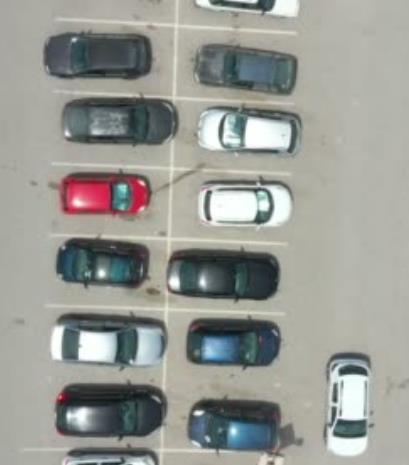car: (49, 314, 170, 371), (163, 248, 280, 303), (53, 385, 166, 440), (42, 28, 154, 82), (61, 97, 179, 148), (192, 41, 298, 96), (196, 105, 303, 159), (322, 355, 374, 458), (198, 180, 295, 230), (55, 238, 148, 290), (187, 406, 281, 457), (186, 322, 281, 371), (58, 171, 152, 217)
